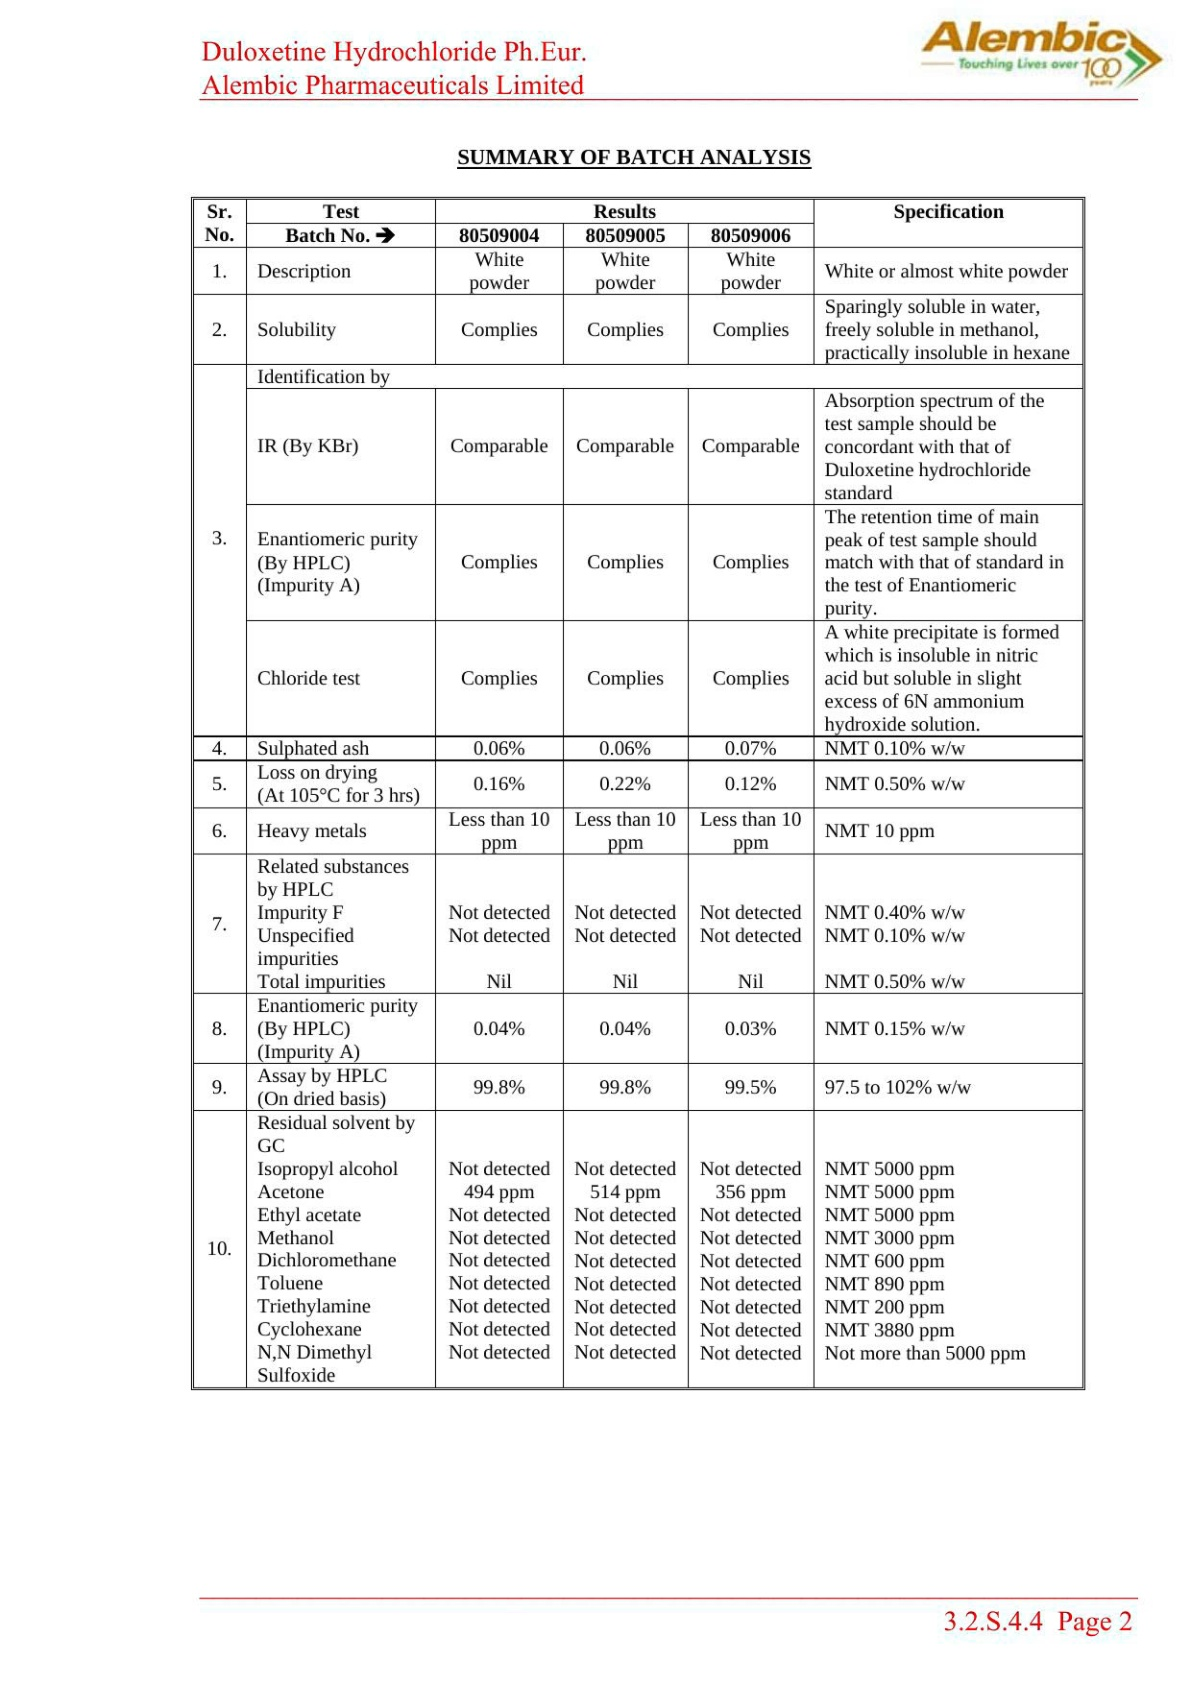merged_cells: (189, 195, 1087, 1392)
